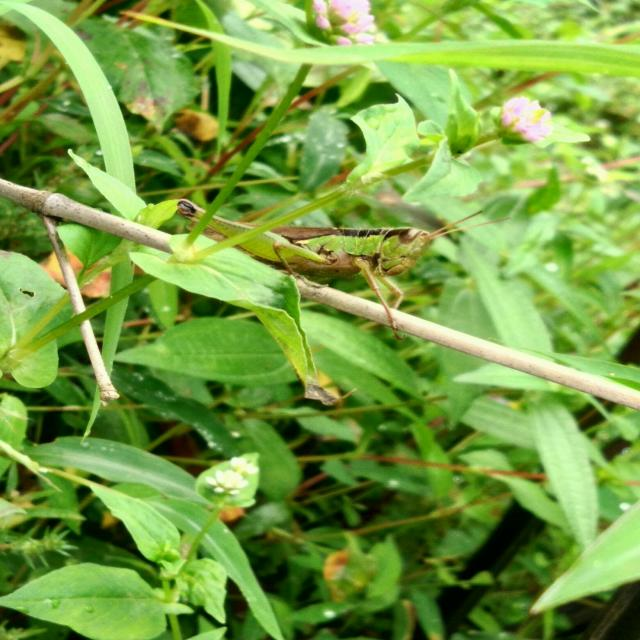ZhaMeng: (137, 186, 486, 307)
